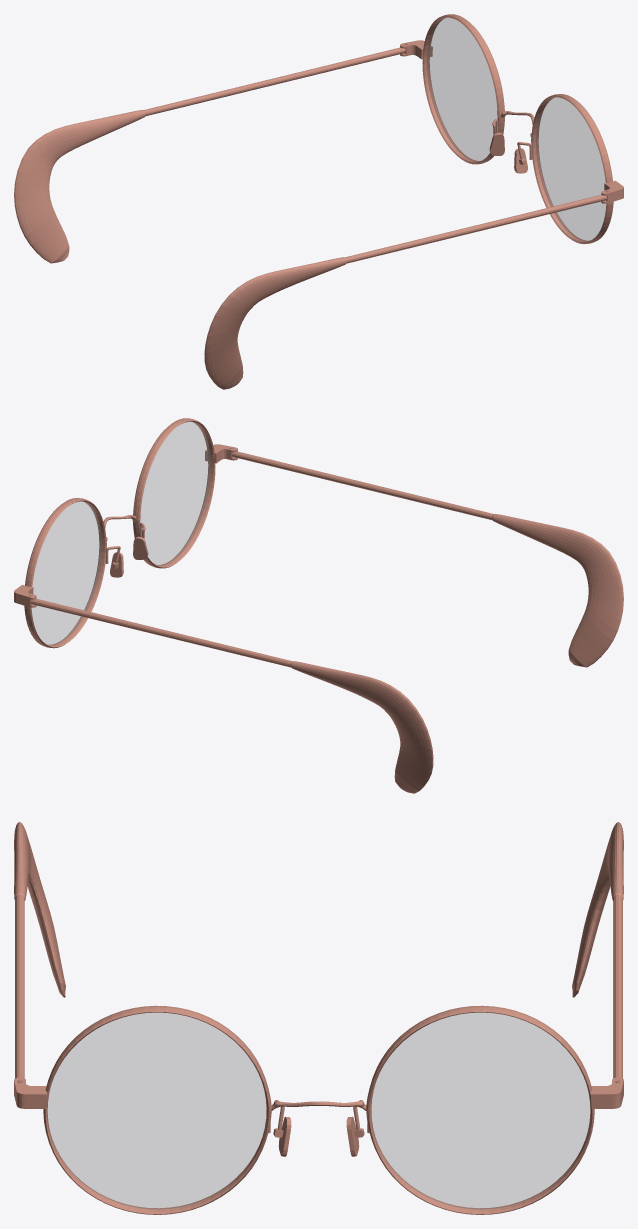
File: model_2_rose_gold.glb
3 views of the same model, one above another, from view 1: azimuth 30°, elevation 25°; view 2: azimuth 150°, elevation 25°; view 3: azimuth 270°, elevation 25° (orthographic). The views are drawn at different scales.
Visible parts, largest first — view 1: Black_Frame_and_Temples, Transparent_Lens_Assembly_2, Transparent_Lens_Assembly_1; view 2: Black_Frame_and_Temples, Transparent_Lens_Assembly_2, Transparent_Lens_Assembly_1; view 3: Black_Frame_and_Temples, Transparent_Lens_Assembly_2, Transparent_Lens_Assembly_1.
Part boxes in pixels (left/top/right/bottom): Black_Frame_and_Temples: left=14, top=16, right=623, bottom=389; Transparent_Lens_Assembly_2: left=531, top=94, right=613, bottom=244; Transparent_Lens_Assembly_1: left=427, top=14, right=505, bottom=164; Black_Frame_and_Temples: left=14, top=422, right=623, bottom=793; Transparent_Lens_Assembly_2: left=132, top=418, right=215, bottom=568; Transparent_Lens_Assembly_1: left=24, top=498, right=106, bottom=648; Black_Frame_and_Temples: left=14, top=822, right=623, bottom=1213; Transparent_Lens_Assembly_2: left=43, top=1005, right=271, bottom=1214; Transparent_Lens_Assembly_1: left=366, top=1005, right=594, bottom=1214.
Bounding box in the file's own units: 400 × 158 × 336.
